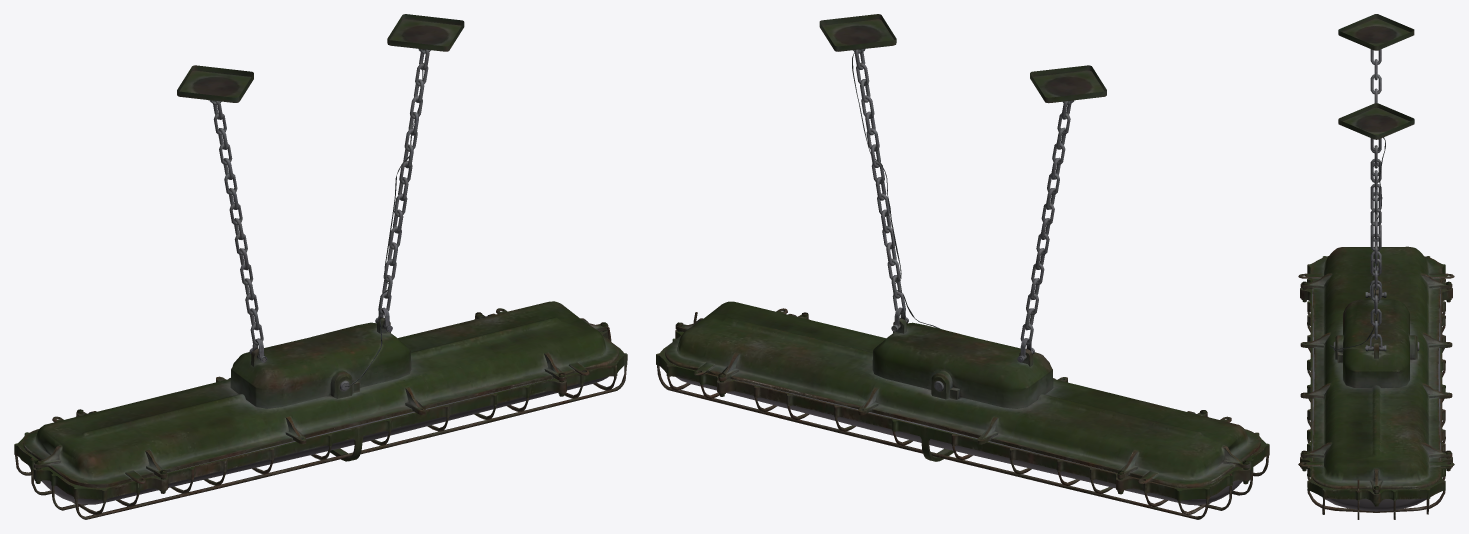
Rendered from caged_hanging_light.glb.
The picture shows the model from 3 angles, left to right: view 1: azimuth 30°, elevation 25°; view 2: azimuth 150°, elevation 25°; view 3: azimuth 270°, elevation 25°; orthographic projection. The views are drawn at different scales.
Parts seen in each view (by area): view 1: caged_hanging_light; view 2: caged_hanging_light; view 3: caged_hanging_light.
Part boxes in pixels (x1,y1,x2,y2): caged_hanging_light: (14, 14, 627, 519); caged_hanging_light: (656, 14, 1269, 519); caged_hanging_light: (1298, 14, 1454, 519).
Bounding box in the file's own units: 1.16 × 0.7501 × 0.3149.
1 material, 1 textured.
